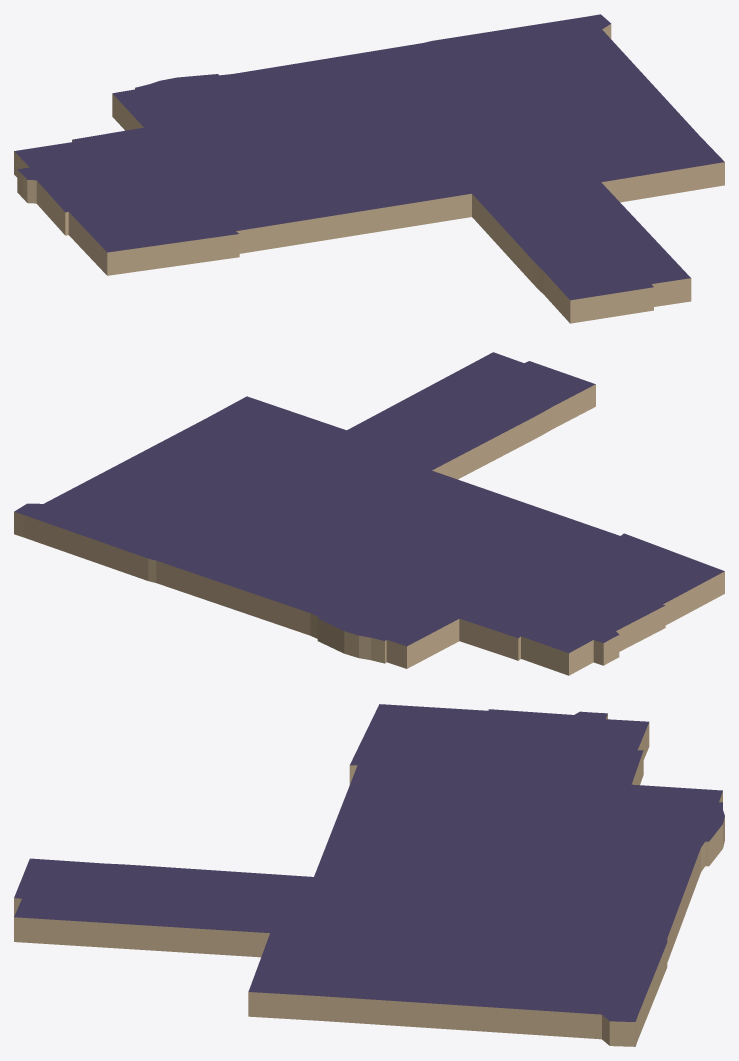
Rendered from b-091-medical-sciences-building-day.glb.
3 renders of one model, top to bottom at view 1: azimuth 30°, elevation 25°; view 2: azimuth 150°, elevation 25°; view 3: azimuth 270°, elevation 25°, orthographic. The views are drawn at different scales.
Visible parts, largest first — view 1: campus/b-091-medical-sciences-building-day-0; view 2: campus/b-091-medical-sciences-building-day-0; view 3: campus/b-091-medical-sciences-building-day-0.
Part boxes in pixels (box(x1,y1,x2,y2)): campus/b-091-medical-sciences-building-day-0: box(14, 14, 724, 323); campus/b-091-medical-sciences-building-day-0: box(14, 352, 724, 675); campus/b-091-medical-sciences-building-day-0: box(14, 704, 724, 1046).
Bounding box in the file's own units: 82.74 × 3 × 78.17.
